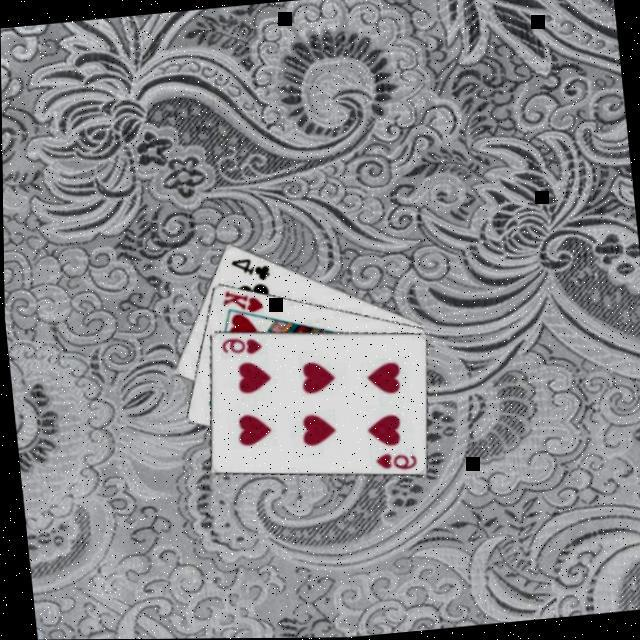4C: (226, 249, 272, 283)
6H: (216, 329, 264, 356), (370, 446, 418, 473)
KH: (218, 281, 265, 315)
